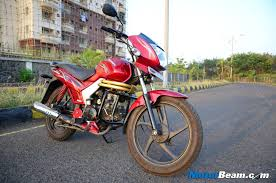bike: (31, 16, 212, 182)
